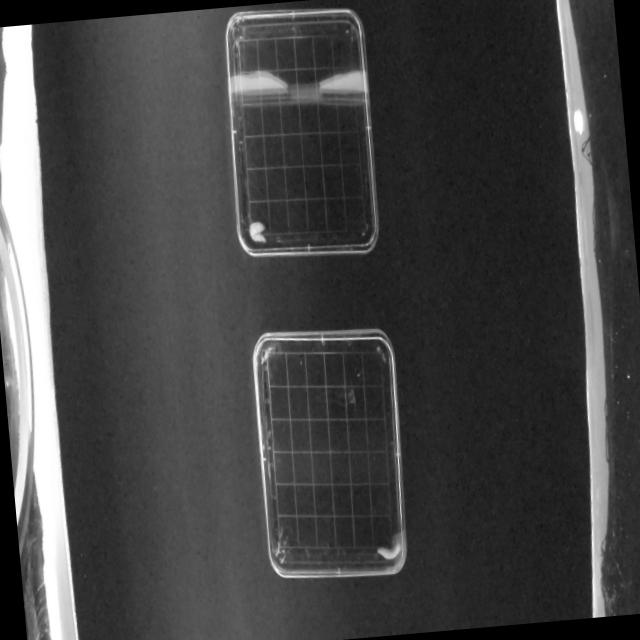larva: (247, 216, 270, 247), (377, 540, 402, 564)
